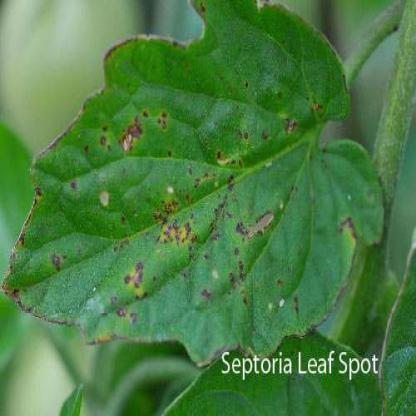tomato septoria leaf spot: (7, 5, 389, 373)
